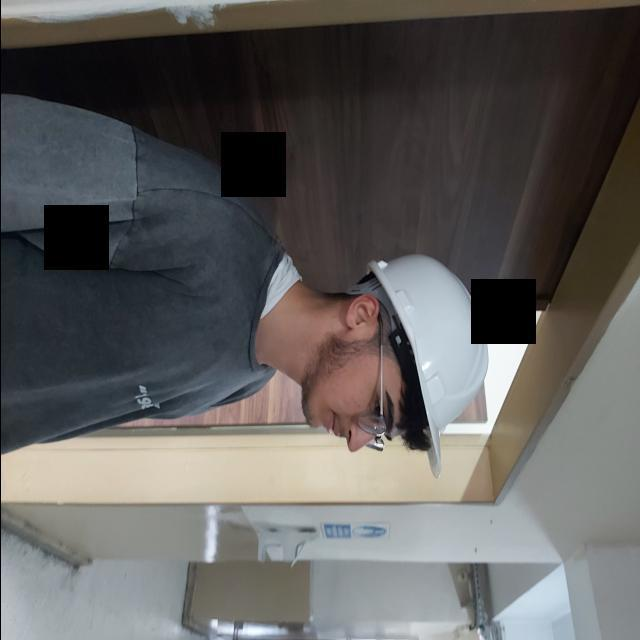white helmet: (359, 239, 484, 471)
